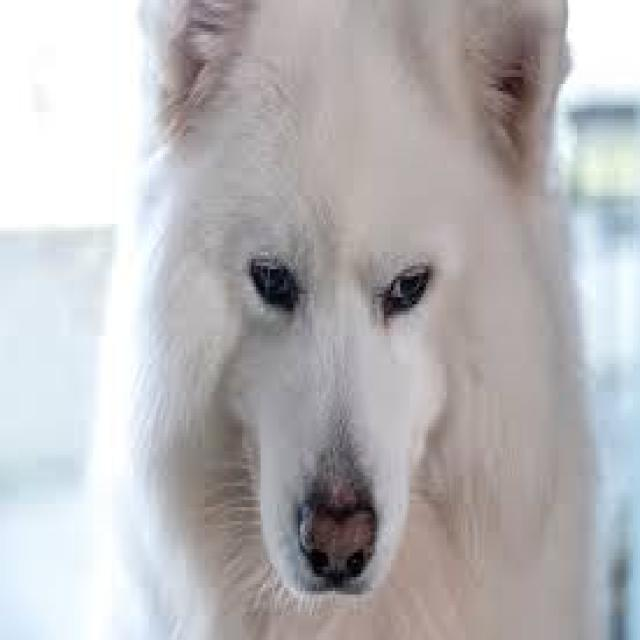dogs: (84, 0, 606, 640)
